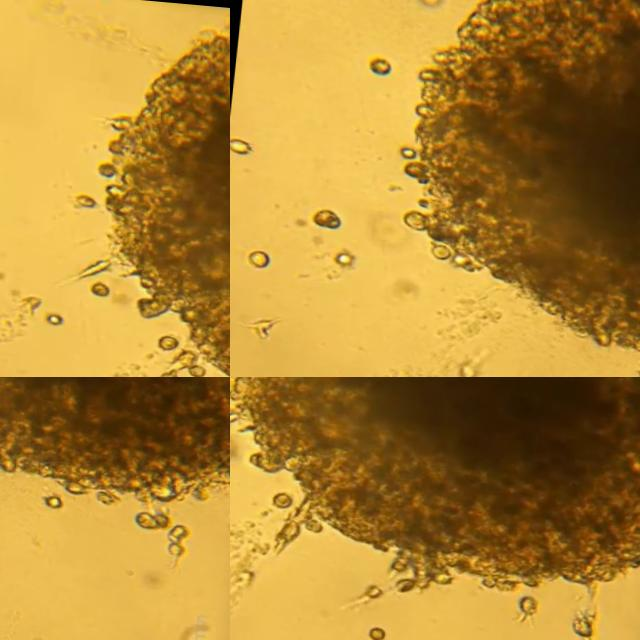cell: (343, 575, 386, 599), (71, 255, 115, 278), (521, 586, 542, 612), (575, 605, 598, 627), (174, 343, 198, 364), (253, 316, 278, 335), (159, 327, 181, 344), (371, 55, 390, 73), (231, 138, 255, 152), (253, 248, 272, 265), (370, 618, 389, 635), (336, 250, 358, 264), (163, 361, 181, 377), (274, 487, 296, 500), (464, 357, 479, 375), (95, 276, 112, 291), (49, 486, 65, 501), (48, 310, 67, 322), (26, 293, 44, 305), (193, 359, 209, 372), (78, 191, 95, 203), (176, 513, 190, 526), (174, 532, 185, 546), (173, 520, 184, 532)
tumor_mass: (230, 377, 640, 594), (98, 25, 230, 368)
